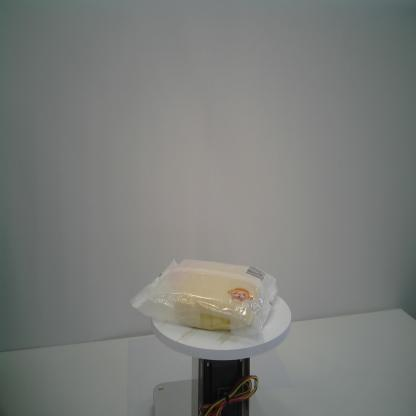Dessert: (129, 256, 279, 337)
